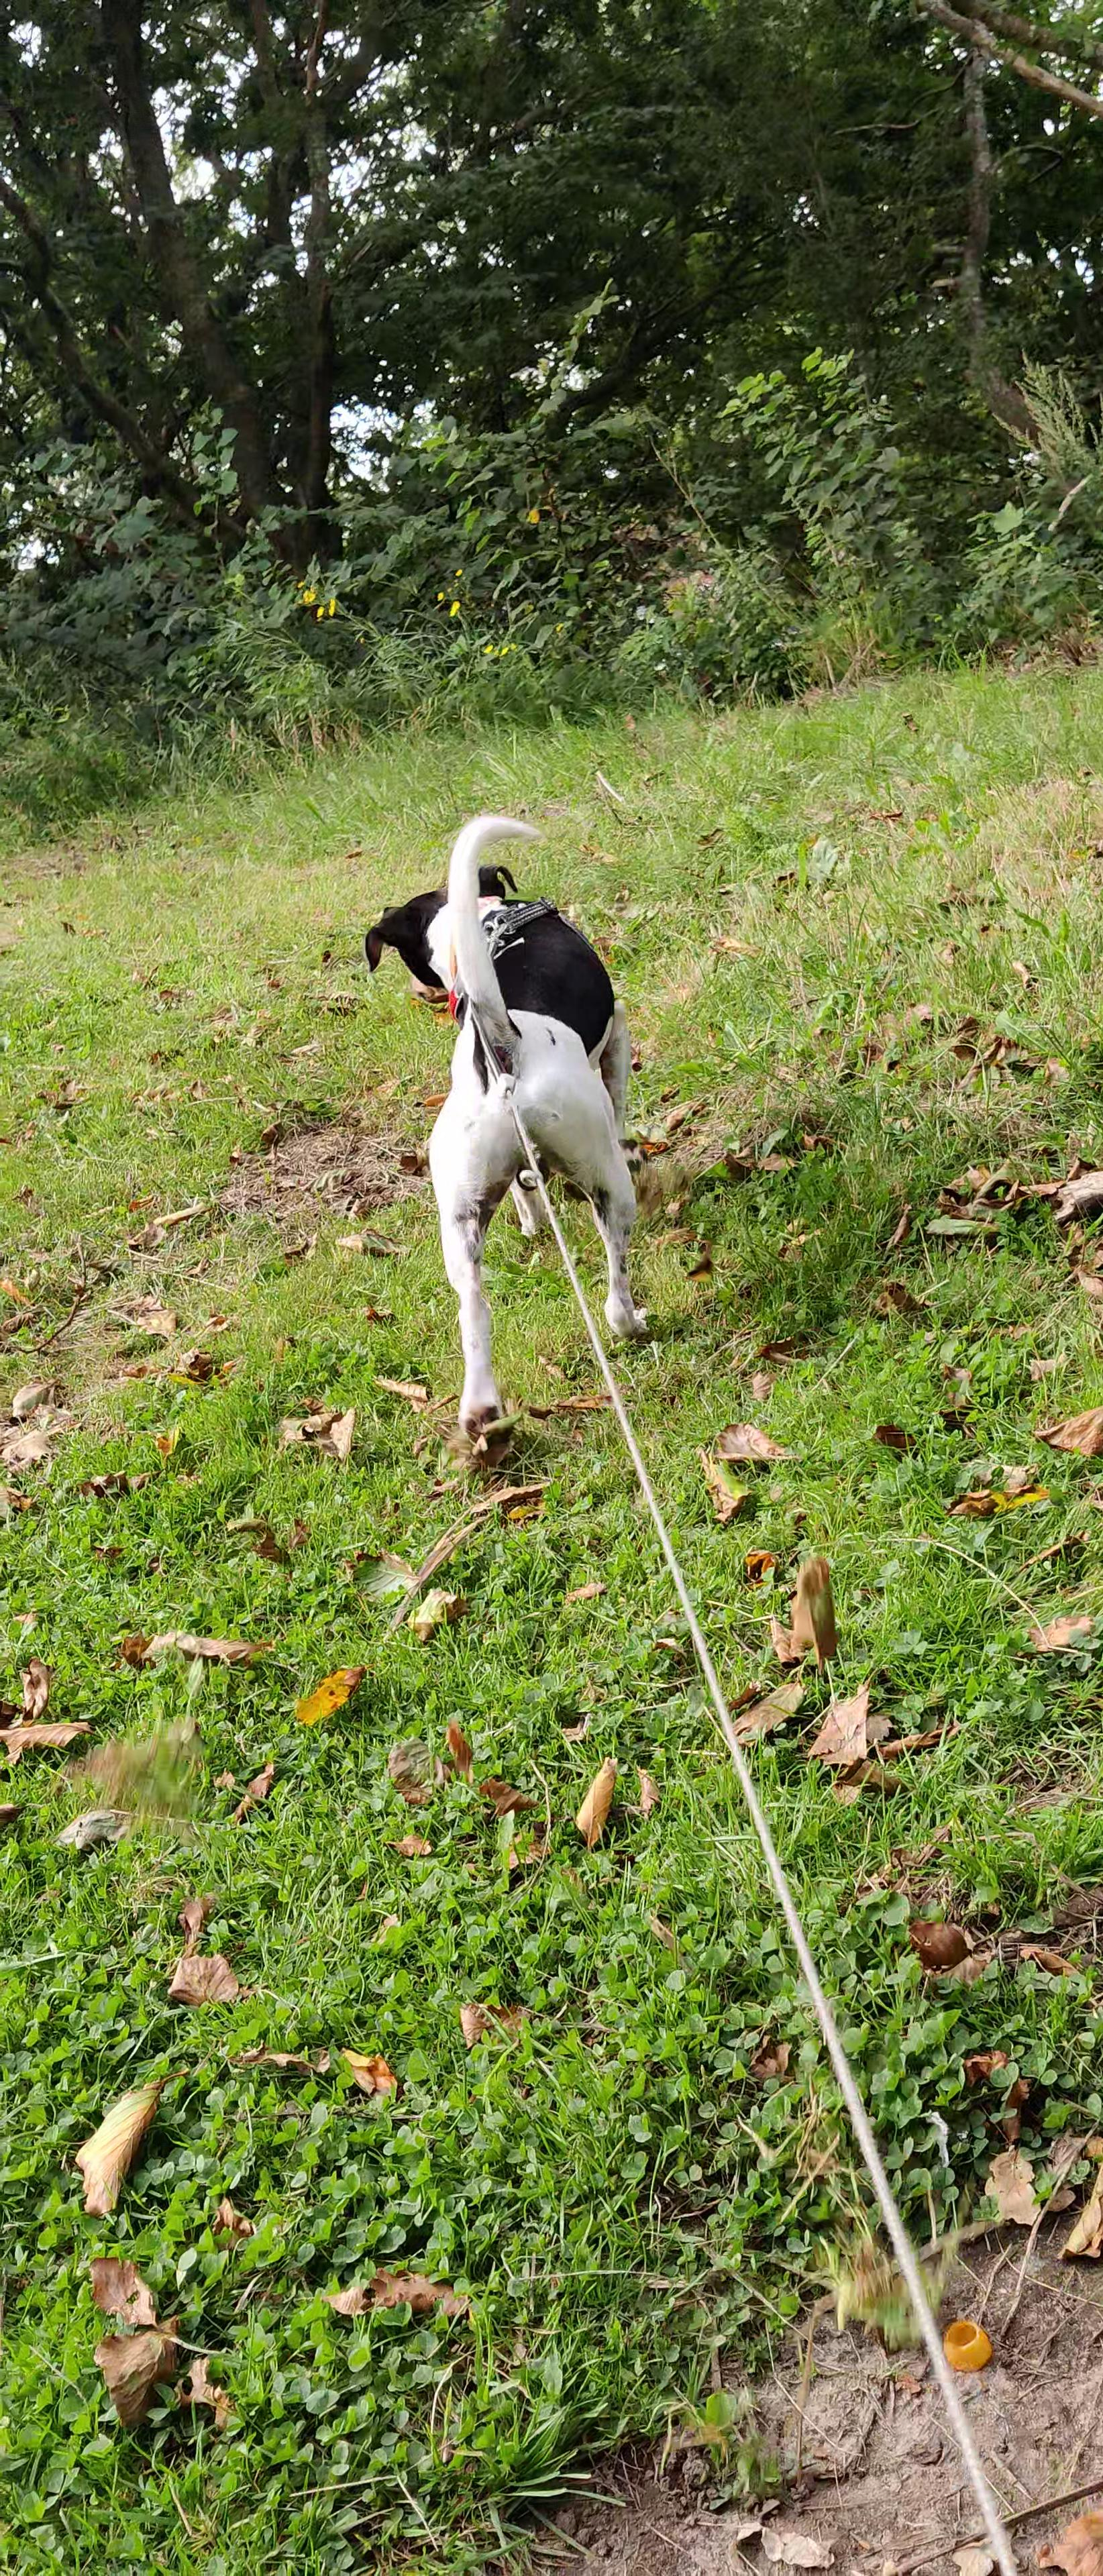Dog: (350, 795, 661, 1454)
